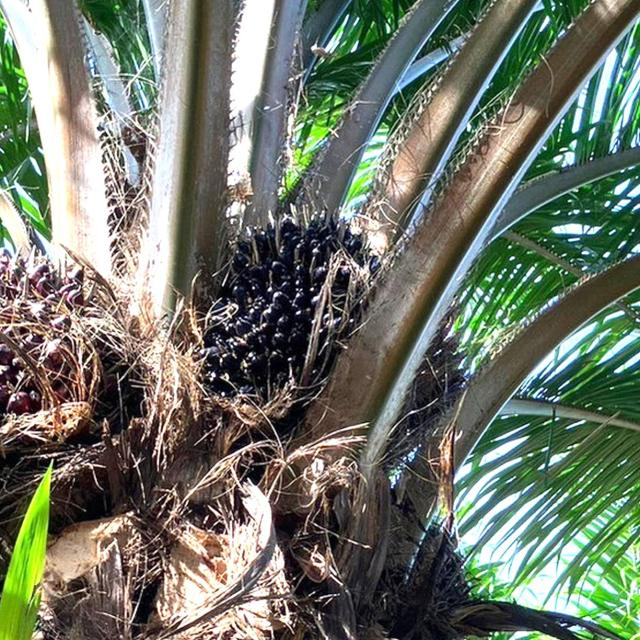unripe: (188, 190, 386, 420)
